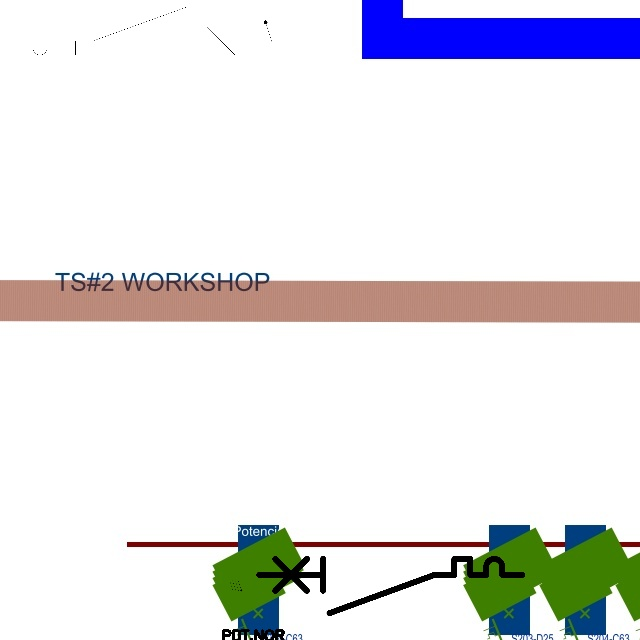interruptor_termomagnetico: (252, 552, 529, 619), (9, 1, 255, 61)
